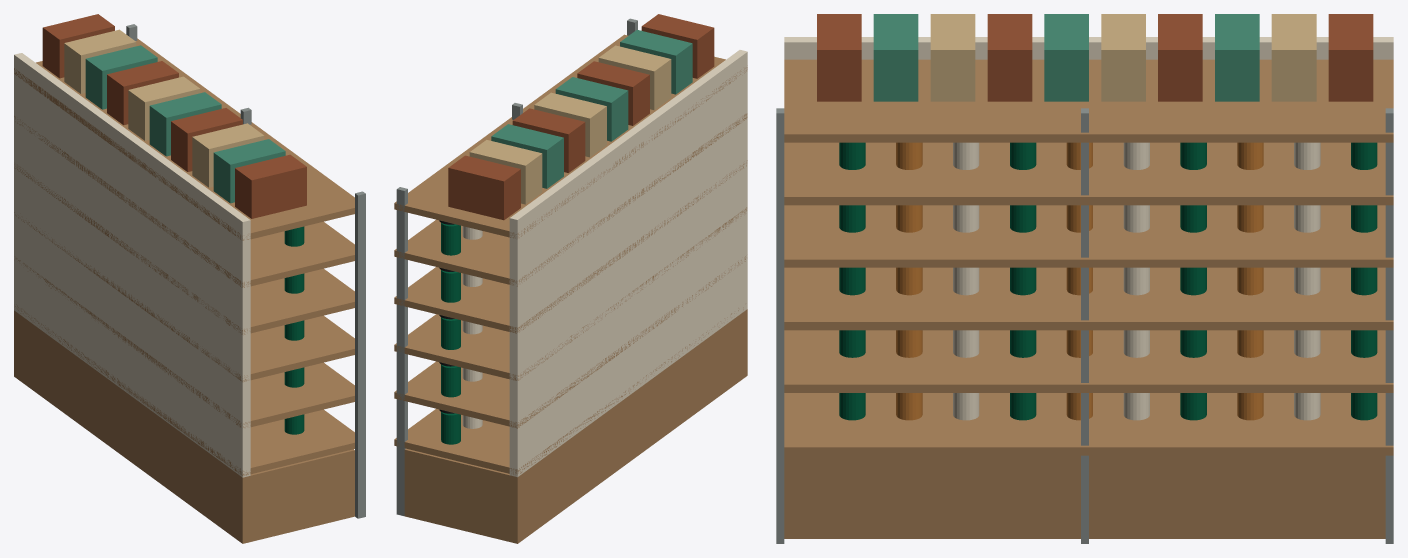
The model's file is better.glb.
3 renders of one model, left to right at view 1: azimuth 30°, elevation 25°; view 2: azimuth 150°, elevation 25°; view 3: azimuth 270°, elevation 25°, orthographic. The views are drawn at different scales.
Parts seen in each view (by area): view 1: starbucksShelves_1, starbucksShelves_0, starbucksShelves_107, starbucksShelves_86, starbucksShelves_65, starbucksShelves_23, starbucksShelves_2, starbucksShelves_44, starbucksShelves_117, starbucksShelves_120, starbucksShelves_108, starbucksShelves_115 (+7 smaller); view 2: starbucksShelves_1, starbucksShelves_0, starbucksShelves_107, starbucksShelves_65, starbucksShelves_86, starbucksShelves_23, starbucksShelves_44, starbucksShelves_2, starbucksShelves_108, starbucksShelves_118, starbucksShelves_117, starbucksShelves_111 (+12 smaller); view 3: starbucksShelves_0, starbucksShelves_107, starbucksShelves_86, starbucksShelves_44, starbucksShelves_2, starbucksShelves_65, starbucksShelves_23, starbucksShelves_108, starbucksShelves_109, starbucksShelves_114, starbucksShelves_115, starbucksShelves_116 (+45 smaller).
Boxes of the visible parts, bbox=[...] form: starbucksShelves_1: bbox=[14, 53, 250, 477]; starbucksShelves_0: bbox=[14, 310, 354, 543]; starbucksShelves_107: bbox=[14, 38, 354, 240]; starbucksShelves_86: bbox=[14, 116, 354, 287]; starbucksShelves_65: bbox=[14, 164, 354, 334]; starbucksShelves_23: bbox=[15, 258, 354, 427]; starbucksShelves_2: bbox=[15, 304, 354, 475]; starbucksShelves_44: bbox=[14, 212, 354, 381]; starbucksShelves_117: bbox=[235, 154, 306, 218]; starbucksShelves_120: bbox=[355, 191, 365, 518]; starbucksShelves_108: bbox=[42, 14, 114, 78]; starbucksShelves_115: bbox=[192, 123, 264, 187]; starbucksShelves_1: bbox=[509, 50, 747, 477]; starbucksShelves_0: bbox=[404, 309, 747, 543]; starbucksShelves_107: bbox=[394, 34, 747, 238]; starbucksShelves_65: bbox=[394, 160, 747, 333]; starbucksShelves_86: bbox=[394, 113, 747, 286]; starbucksShelves_23: bbox=[394, 256, 745, 428]; starbucksShelves_44: bbox=[394, 207, 746, 380]; starbucksShelves_2: bbox=[394, 307, 743, 474]; starbucksShelves_108: bbox=[448, 155, 520, 220]; starbucksShelves_118: bbox=[396, 187, 407, 516]; starbucksShelves_117: bbox=[641, 14, 714, 78]; starbucksShelves_111: bbox=[512, 108, 585, 172]; starbucksShelves_0: bbox=[784, 455, 1385, 538]; starbucksShelves_107: bbox=[784, 59, 1393, 142]; starbucksShelves_86: bbox=[784, 142, 1393, 205]; starbucksShelves_44: bbox=[784, 267, 1393, 330]; starbucksShelves_2: bbox=[784, 393, 1393, 455]; starbucksShelves_65: bbox=[784, 205, 1393, 267]; starbucksShelves_23: bbox=[784, 330, 1393, 392]; starbucksShelves_108: bbox=[1328, 14, 1373, 101]; starbucksShelves_109: bbox=[1271, 14, 1316, 101]; starbucksShelves_114: bbox=[987, 14, 1032, 101]; starbucksShelves_115: bbox=[930, 14, 975, 101]; starbucksShelves_116: bbox=[873, 14, 918, 101].
Bounding box in the file's own units: 0.93 × 2.53 × 3.04.
